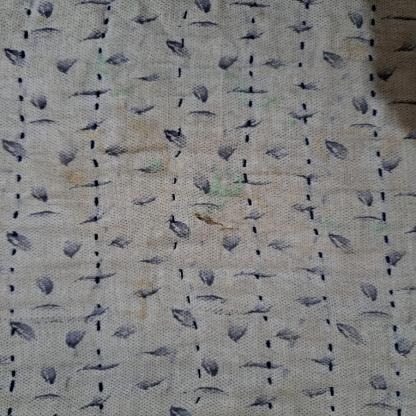spot: (105, 97, 183, 178), (224, 68, 294, 114), (200, 168, 264, 204), (117, 114, 162, 158), (349, 128, 408, 156), (94, 58, 139, 91), (266, 91, 304, 128), (366, 213, 416, 239), (136, 274, 160, 324), (190, 212, 244, 232), (308, 121, 336, 157), (58, 163, 94, 190)
